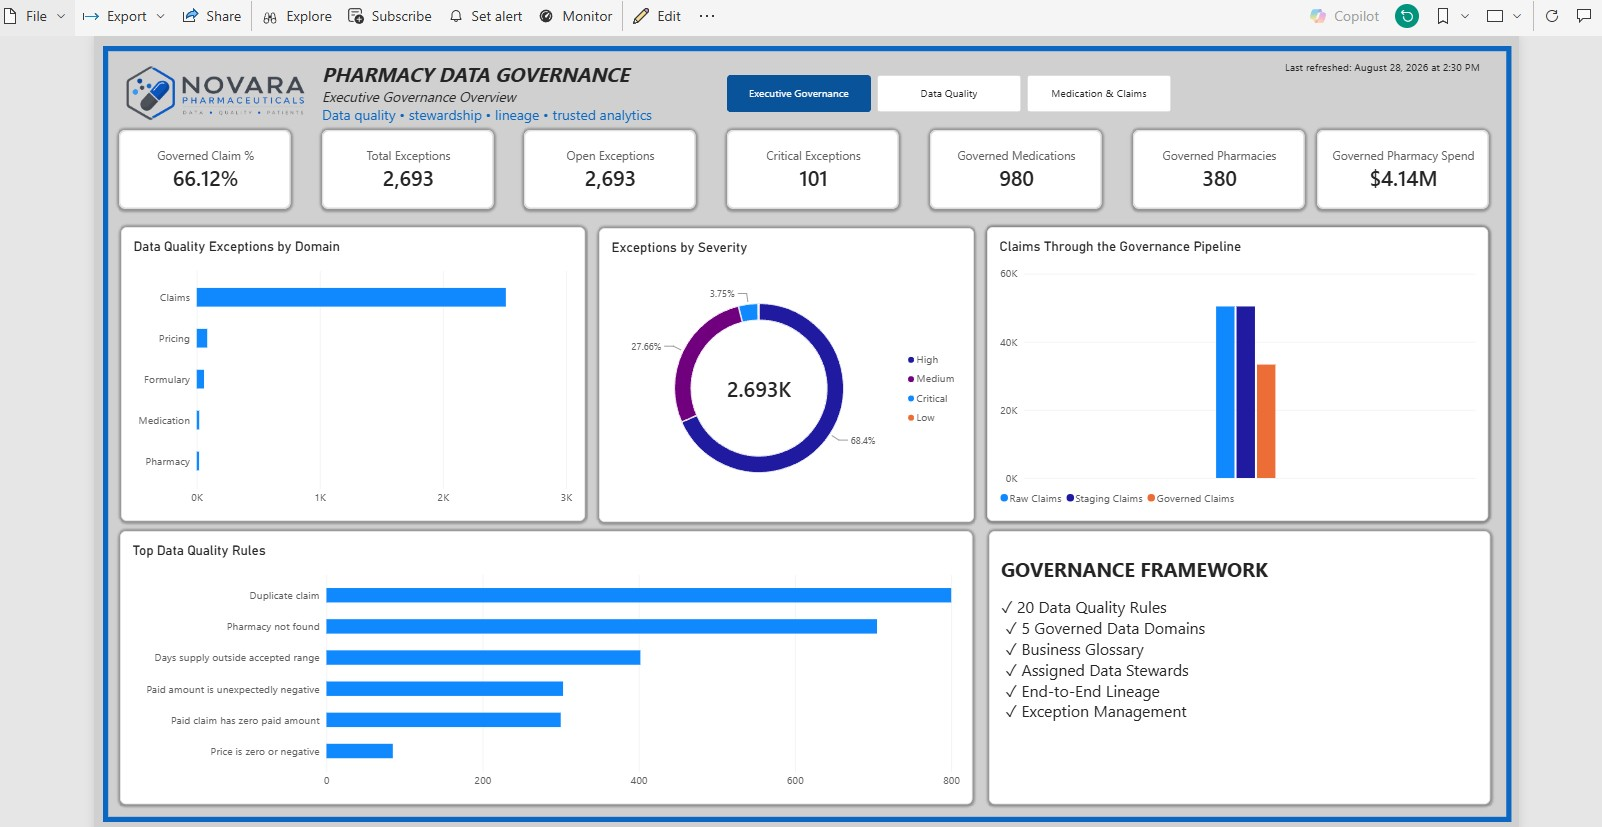

This screenshot's page, from the dashboard's own definition file:
{"tool":"powerbi","page":{"name":"Executive Governance","canvas":[1920,1080],"ordinal":0},"visuals":[{"type":"shape","box":[11.7,13.3,1896.7,1045],"z":0},{"type":"textbox","box":[307,32.1,502.5,93.2],"z":1000},{"type":"cardVisual","title":"Governed Claim %","fields":{"Data":["Sum(reporting vw_executive_governance.Governed_Claim_Percent)"]},"box":[33.3,126.7,231,106],"z":2000},{"type":"cardVisual","title":"Governed Claim %","fields":{"Data":["Sum(reporting vw_executive_governance.Total_Exceptions)"]},"box":[306.4,126.7,231,106],"z":3000},{"type":"cardVisual","title":"Governed Claim %","fields":{"Data":["Sum(reporting vw_executive_governance.Open_Exceptions)"]},"box":[579.4,126.7,231,106],"z":4000},{"type":"cardVisual","title":"Governed Claim %","fields":{"Data":["Sum(reporting vw_executive_governance.Critical_Exceptions)"]},"box":[852.5,126.7,231,106],"z":5000},{"type":"cardVisual","title":"Governed Claim %","fields":{"Data":["Sum(reporting vw_executive_governance.Governed_Medications)"]},"box":[1125.6,126.7,231,106],"z":6000},{"type":"cardVisual","title":"Governed Claim %","fields":{"Data":["Sum(reporting vw_executive_governance.Governed_Pharmacies)"]},"box":[1398.6,126.7,231,106],"z":7000},{"type":"clusteredBarChart","title":"Data Quality Exceptions by Domain","fields":{"Category":["reporting vw_data_quality_by_domain.Domain"],"Y":["Sum(reporting vw_data_quality_by_domain.Exception_Count)"]},"box":[35.7,257,624.5,396.1],"z":8000},{"type":"donutChart","title":"Exceptions by Severity","fields":{"Category":["reporting vw_data_quality_exception_detail.Severity"],"Y":["CountNonNull(reporting vw_data_quality_exception_detail.Exception_ID)"]},"box":[679.9,258.7,505,396],"z":9000},{"type":"clusteredBarChart","title":"Top Data Quality Rules","fields":{"Category":["reporting vw_data_quality_by_rule.Rule_Description"],"Y":["Sum(reporting vw_data_quality_by_rule.Exception_Count)"]},"box":[35,666.7,1148.3,368.3],"z":10000},{"type":"clusteredColumnChart","title":"Claims Through the Governance Pipeline","fields":{"Y":["Sum(reporting vw_executive_governance.Raw_Claims)","Sum(reporting vw_executive_governance.Staging_Claims)","Sum(reporting vw_executive_governance.Governed_Claims)"]},"box":[1202.7,257,675,396],"z":11000},{"type":"cardVisual","title":"Governed Claim %","fields":{"Data":["Sum(reporting vw_executive_governance.Total_Pharmacy_Spend)"]},"box":[1646.7,126.7,231.2,106],"z":12000},{"type":"textbox","box":[1205,666.7,675,368.3],"z":13000},{"type":"image","box":[35,11.7,255,133.3],"z":14000},{"type":"pageNavigator","box":[852.3,51.9,600,50],"z":15000},{"type":"textbox","box":[1603.8,32.1,291.7,62.6],"z":15001}]}

Visuals, with their boxes on the page's 1920x1080 design canvas (x1, y1, x2, y2). These are canvas units, not pixel positions in the 1602x827 screenshot, which may show the page scaled, cropped or inside an application window:
shape: crop(12, 13, 1908, 1058)
textbox: crop(307, 32, 810, 125)
"Governed Claim %" cardVisual: crop(33, 127, 264, 233)
"Governed Claim %" cardVisual: crop(306, 127, 537, 233)
"Governed Claim %" cardVisual: crop(579, 127, 810, 233)
"Governed Claim %" cardVisual: crop(852, 127, 1084, 233)
"Governed Claim %" cardVisual: crop(1126, 127, 1357, 233)
"Governed Claim %" cardVisual: crop(1399, 127, 1630, 233)
"Data Quality Exceptions by Domain" clusteredBarChart: crop(36, 257, 660, 653)
"Exceptions by Severity" donutChart: crop(680, 259, 1185, 655)
"Top Data Quality Rules" clusteredBarChart: crop(35, 667, 1183, 1035)
"Claims Through the Governance Pipeline" clusteredColumnChart: crop(1203, 257, 1878, 653)
"Governed Claim %" cardVisual: crop(1647, 127, 1878, 233)
textbox: crop(1205, 667, 1880, 1035)
image: crop(35, 12, 290, 145)
pageNavigator: crop(852, 52, 1452, 102)
textbox: crop(1604, 32, 1896, 95)
